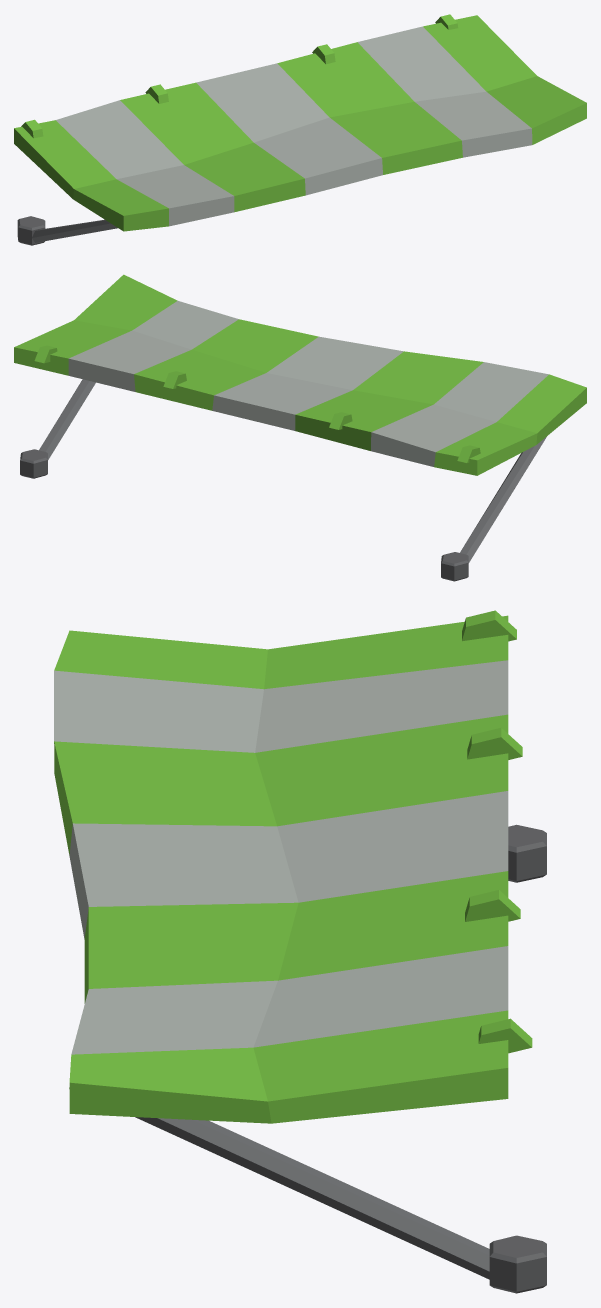
The model's file is SM_Bld_Awning_01.fbx.
3 renders of one model, top to bottom at view 1: azimuth 30°, elevation 25°; view 2: azimuth 150°, elevation 25°; view 3: azimuth 270°, elevation 25°, orthographic. The views are drawn at different scales.
Parts seen in each view (by area): view 1: SM_Bld_Awning_01; view 2: SM_Bld_Awning_01; view 3: SM_Bld_Awning_01.
Boxes of the visible parts, bbox=[...] form: SM_Bld_Awning_01: bbox=[14, 14, 586, 245]; SM_Bld_Awning_01: bbox=[14, 274, 586, 581]; SM_Bld_Awning_01: bbox=[54, 610, 546, 1293].
Bounding box in the file's own units: 250 × 66.03 × 115.
